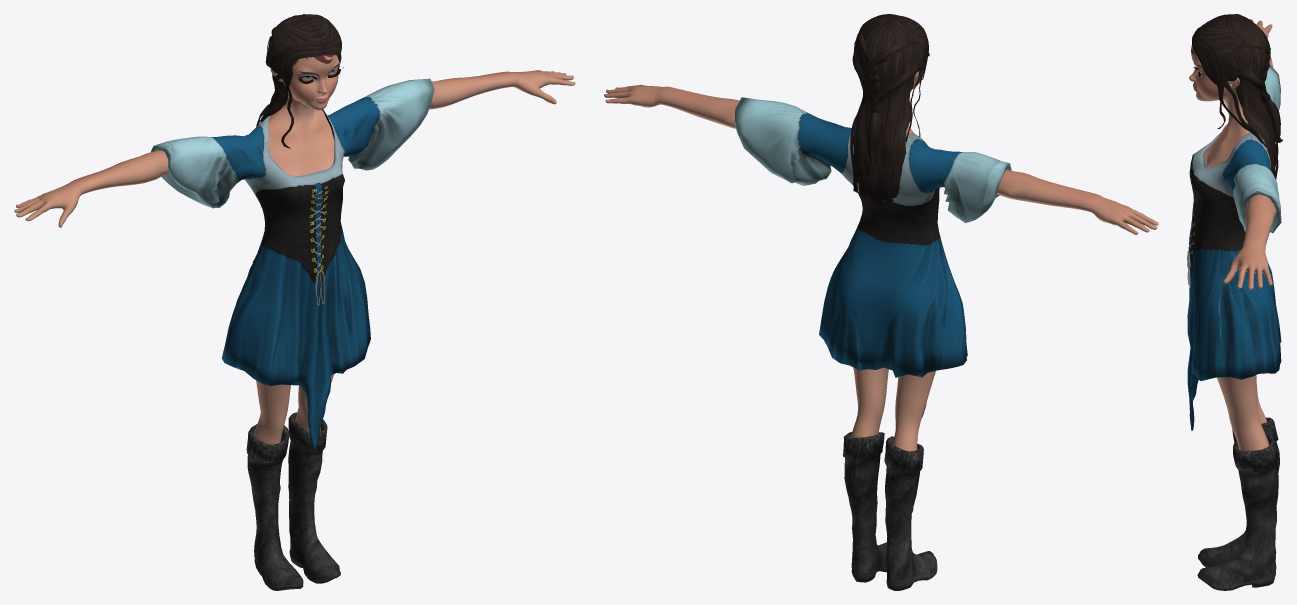
Rendered from fusetest.obj.
The picture shows the model from 3 angles, left to right: view 1: azimuth 30°, elevation 25°; view 2: azimuth 150°, elevation 25°; view 3: azimuth 270°, elevation 25°; orthographic projection.
Visible parts, largest first — view 1: Tops, Body, Shoes, Hair; view 2: Tops, Body, Hair, Shoes; view 3: Tops, Body, Shoes, Hair.
Part boxes in pixels (<box>): Tops: <box>151,78,434,452</box>; Body: <box>14,54,575,444</box>; Shoes: <box>246,412,340,590</box>; Hair: <box>256,14,341,148</box>; Tops: <box>734,97,1011,417</box>; Body: <box>604,70,1158,451</box>; Hair: <box>850,14,928,204</box>; Shoes: <box>843,432,937,590</box>; Tops: <box>1187,65,1281,430</box>; Body: <box>1189,19,1276,450</box>; Shoes: <box>1197,417,1279,590</box>; Hair: <box>1192,14,1282,179</box>.
Bounding box in the file's own units: 179 × 172 × 26.7.
4 materials, 4 textured.
